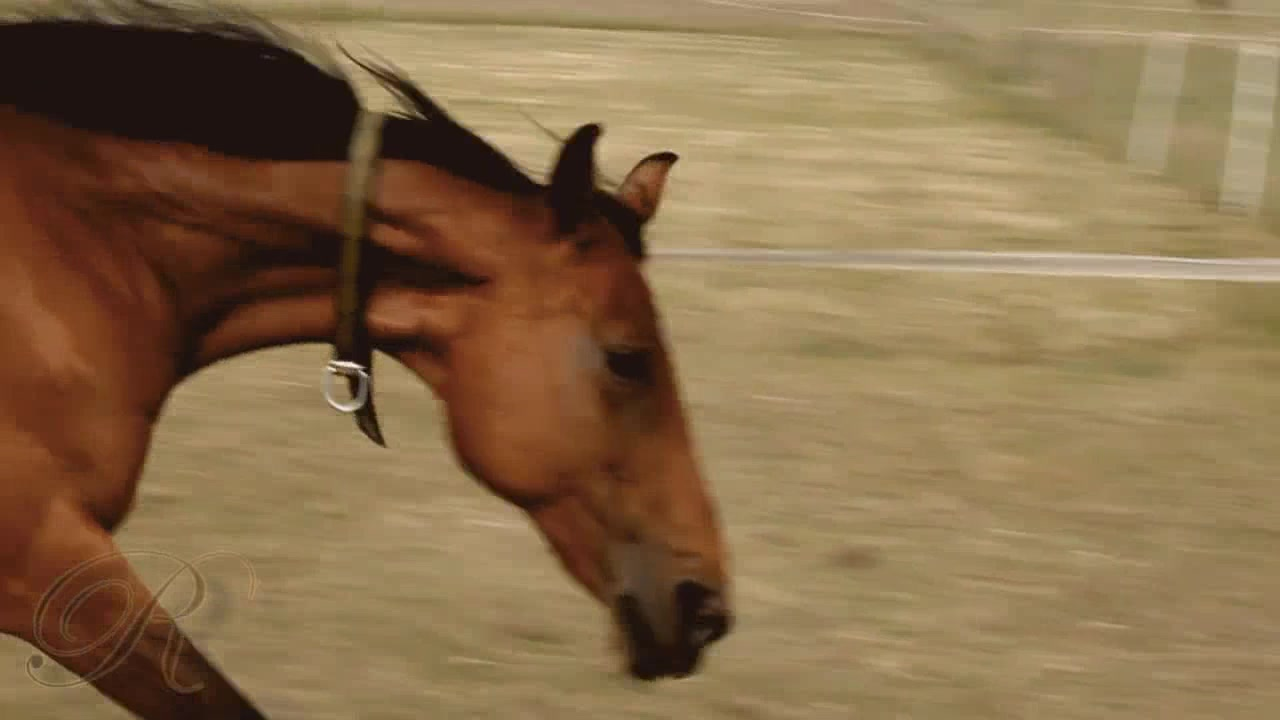horse: (2, 6, 739, 720)
